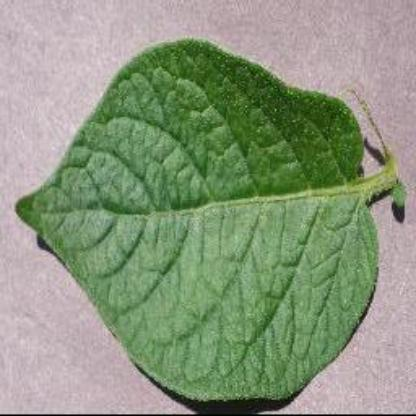Healthy-plant: (13, 39, 405, 403)
